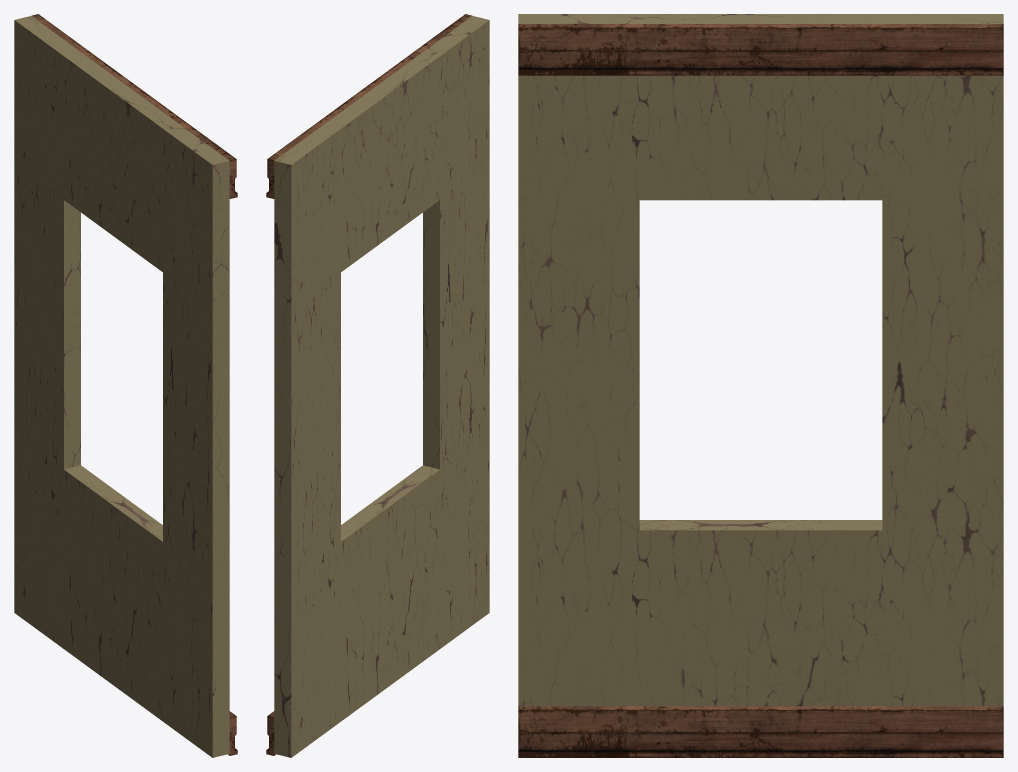
File: Wall_Window_2m_C.fbx
3 views of the same model, side by side, from view 1: azimuth 30°, elevation 25°; view 2: azimuth 150°, elevation 25°; view 3: azimuth 270°, elevation 25° (orthographic). The views are drawn at different scales.
Visible parts, largest first — view 1: Wall_Window_2m_A.001; view 2: Wall_Window_2m_A.001; view 3: Wall_Window_2m_A.001.
Part boxes in pixels (left/top/right/bottom): Wall_Window_2m_A.001: left=14, top=14, right=237, bottom=757; Wall_Window_2m_A.001: left=266, top=14, right=489, bottom=757; Wall_Window_2m_A.001: left=518, top=14, right=1003, bottom=757.
Bounding box in the file's own units: 0.1458 × 3.31 × 2.
